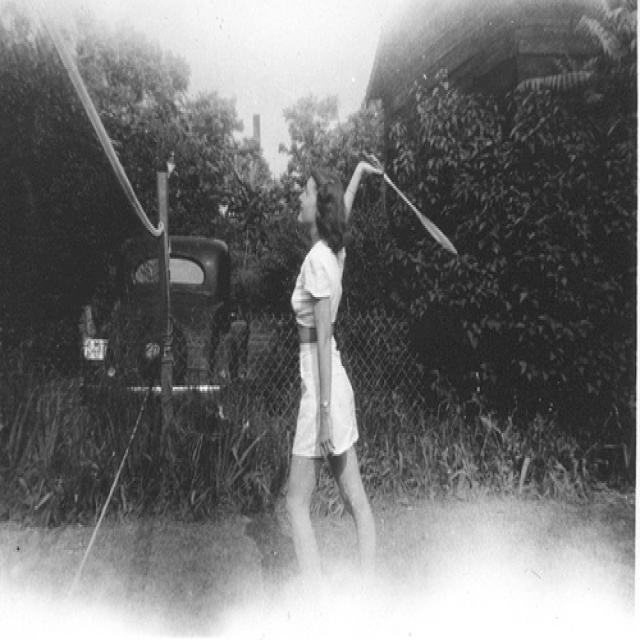Vehicle: (80, 236, 250, 405)
